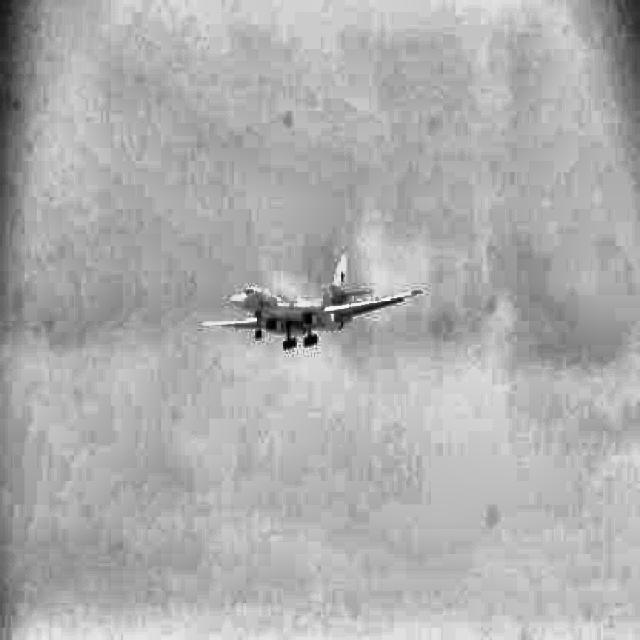Tu160: (203, 254, 422, 351)
